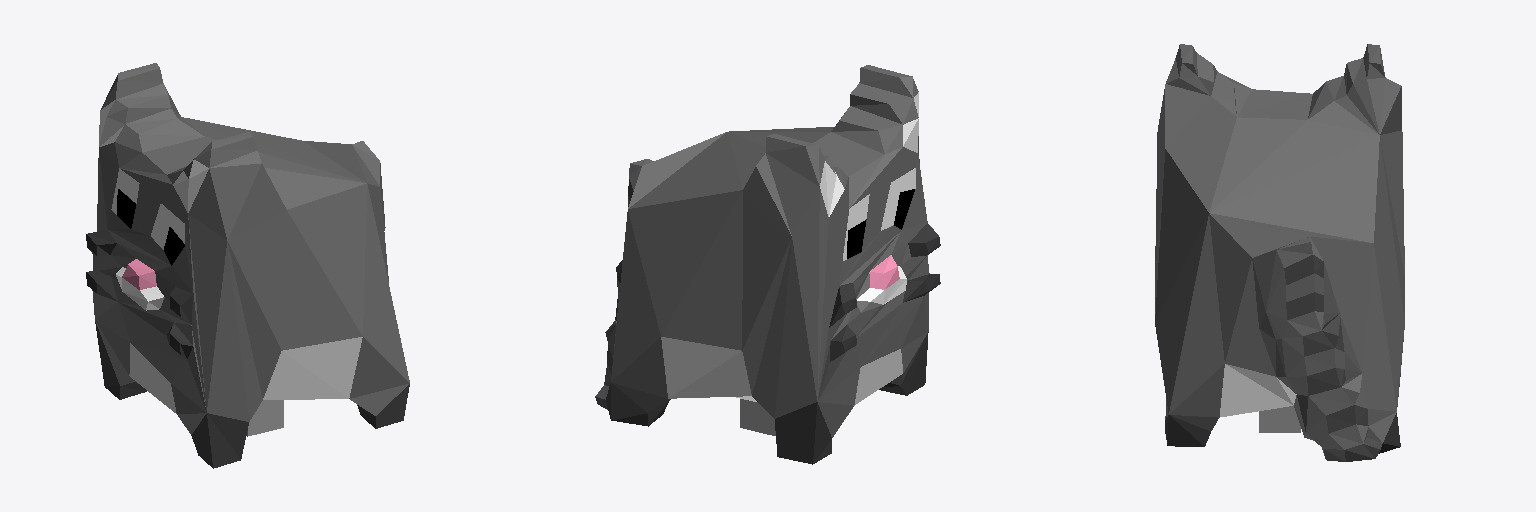
3 views of the same model, side by side, from view 1: azimuth 30°, elevation 25°; view 2: azimuth 150°, elevation 25°; view 3: azimuth 270°, elevation 25° (orthographic).
Parts seen in each view (by area): view 1: cat, Cube; view 2: cat, Cube; view 3: cat, Cube.
Boxes of the visible parts, box(x1,y1,x2,y2) form: cat: box(86, 63, 409, 468); Cube: box(247, 400, 283, 436); cat: box(595, 65, 940, 464); Cube: box(740, 399, 775, 435); cat: box(1155, 44, 1404, 461); Cube: box(1259, 406, 1300, 432).
Size of the model in its own units: 13.92 by 17.83 by 12.
2 materials, 1 textured.